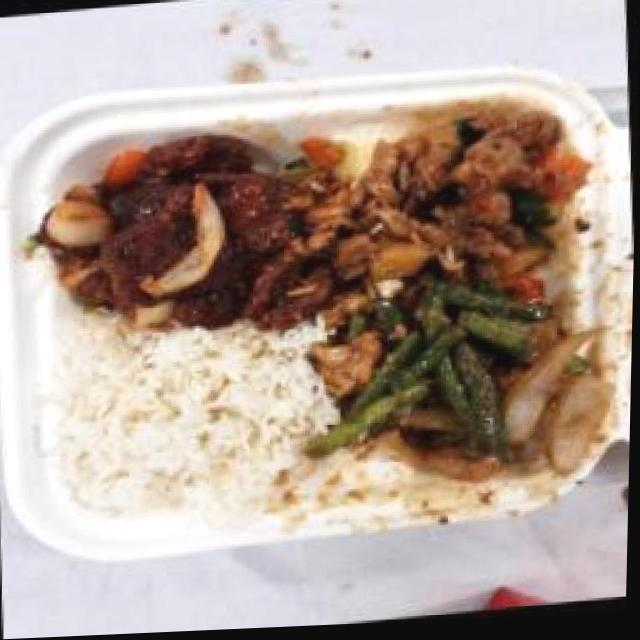Beijing Beef: (26, 116, 328, 350)
Kung Pao Chicken: (289, 89, 598, 318)
String Bean Chicken Breast: (329, 271, 623, 501)
White Steamed Rice: (48, 315, 329, 533)
